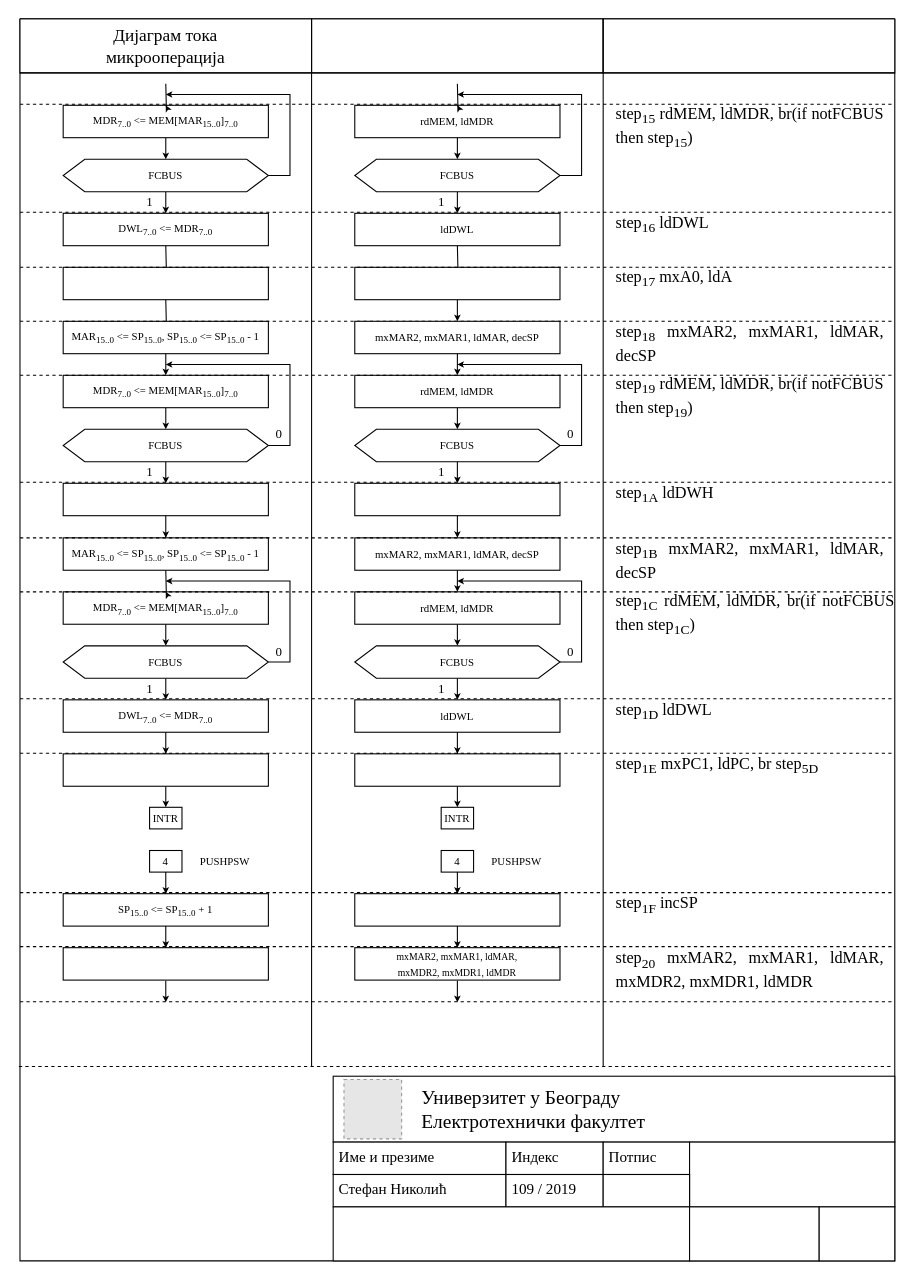
The diagram is 915 pixels wide and 1280 high, and some of its shapes have lost their labels. Grey dashed boxes stand in for pictures. Here are the shapes that lost their labels. From the top down, the centre of each, then its label:
At pixel 456 45: "Дијаграм тока управљачких сигнала".
At pixel 748 45: "Секвенца управљачких сигнала".
At pixel 165 283: "A 15..0 <= DW 15..0".
At pixel 457 283: "mxA0, ldA".
At pixel 165 499: "DWH 7..0 <= MDR 7..0".
At pixel 457 499: "ldDWH".
At pixel 165 769: "PC 15..0 <= DW 15..0".
At pixel 457 769: "mxPC1, ldPC".
At pixel 457 909: "incSP".
At pixel 165 963: "MAR 15..0 <= SP 15..0 , MDR 7..0 <= PSW 7..0".
At pixel 791 1174: "Пројекат Задатак 209".
At pixel 511 1233: "Назив Основи рачунарске технике 2".
At pixel 753 1233: "Датум 25.09.2021.".
At pixel 856 1233: "Страна 9".
